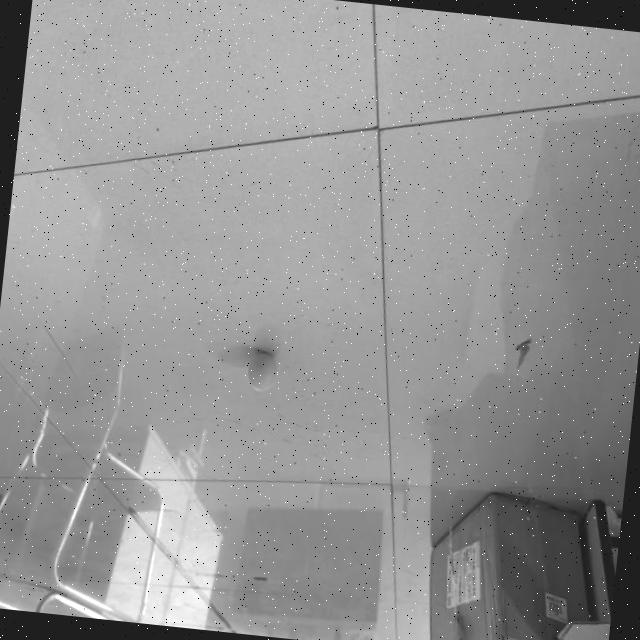ping-pong-ball: (245, 346, 280, 394)
